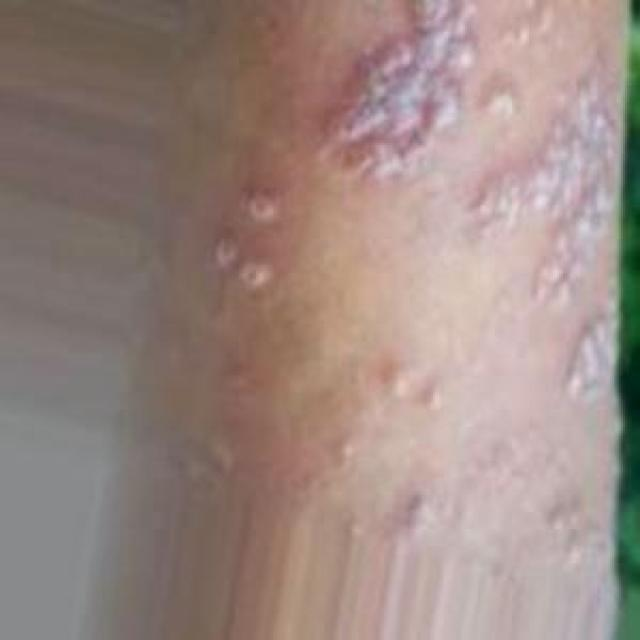Shingles: (310, 0, 556, 184), (477, 64, 615, 306), (213, 186, 278, 295), (562, 302, 625, 404)
